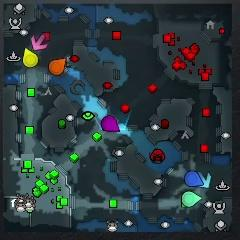p1: (185, 171, 204, 187)
p2: (182, 191, 203, 207)
p3: (101, 115, 120, 132)
p4: (22, 47, 39, 68)
p5: (49, 58, 66, 75)
x1: (31, 34, 47, 51)
x3: (197, 171, 211, 189)
